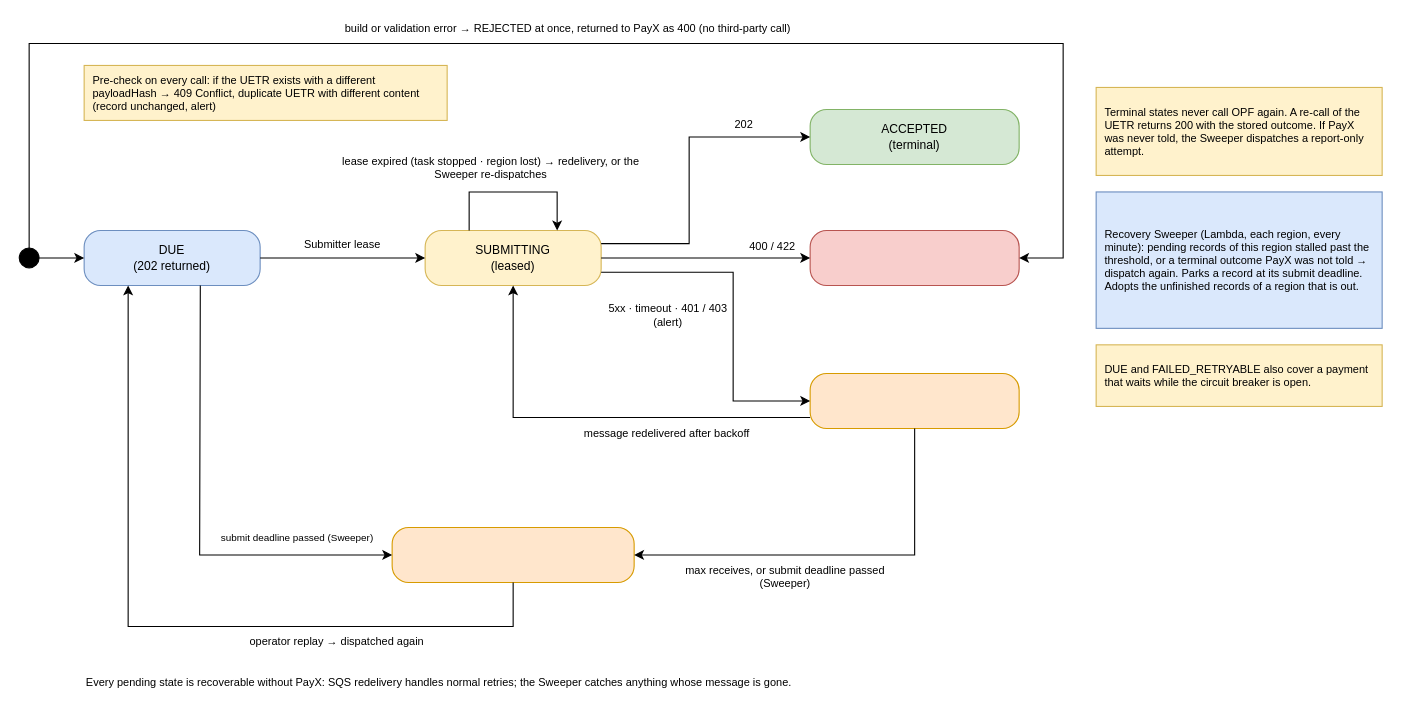
The diagram is 1401 pixels wide and 711 high, and some of its shapes have lost their labels. The box of each missing label's shape, as (x1, y1, x2, y2) in pixels:
FAILED_RETRYABLE 5xx · timeout · 401 / 403: (809, 372, 1019, 428)
PARKED max receives or deadline · alert: (391, 526, 634, 582)
REJECTED (terminal): (809, 229, 1019, 285)
